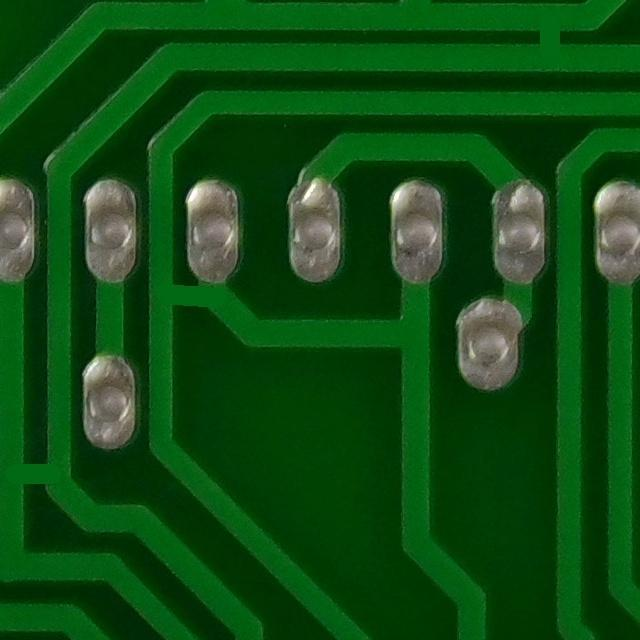short: (144, 246, 248, 342), (499, 0, 594, 73), (0, 434, 79, 514)
